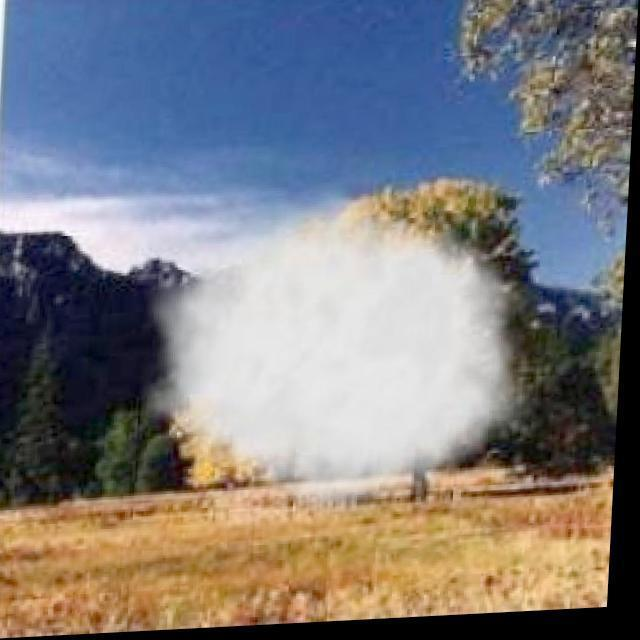Smoke: (140, 188, 531, 525)
